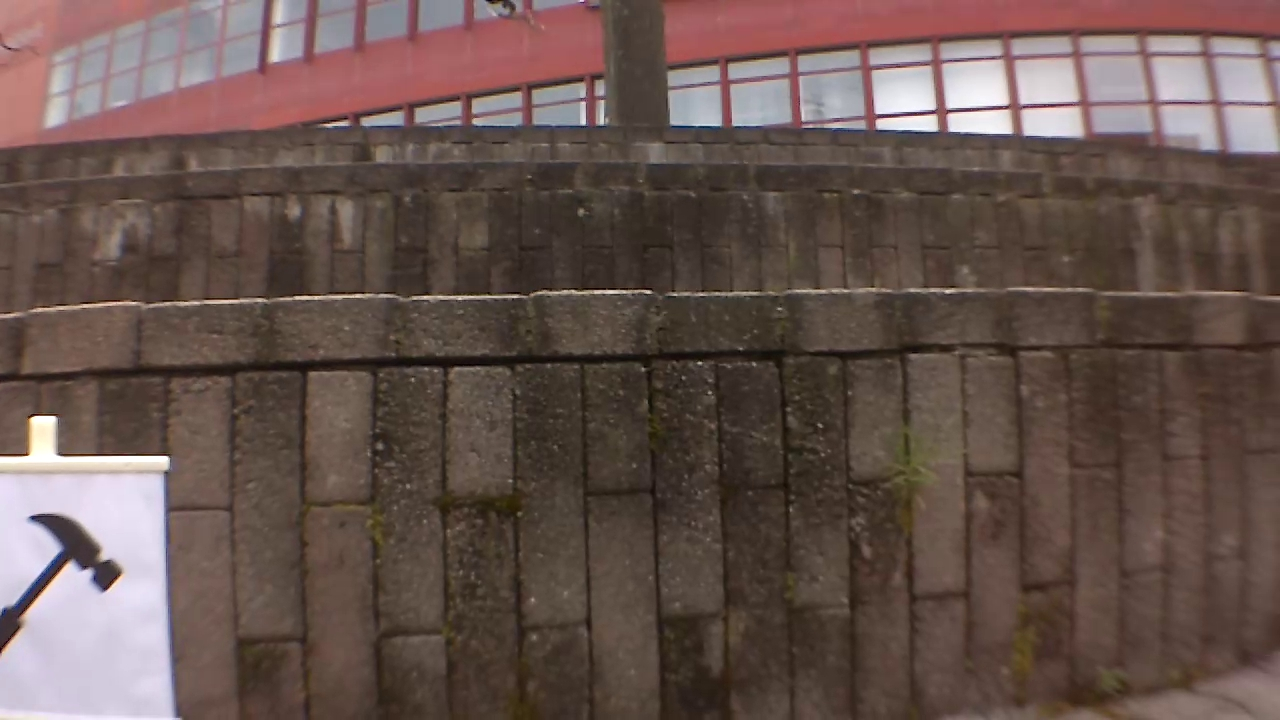hammer: (0, 503, 127, 672)
